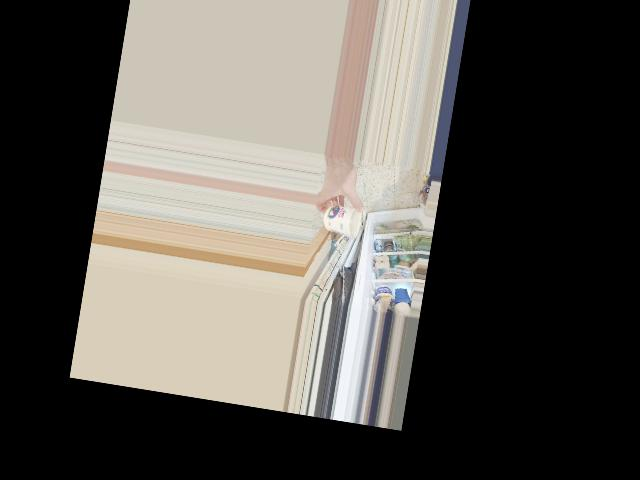cotage: (319, 200, 363, 239)
